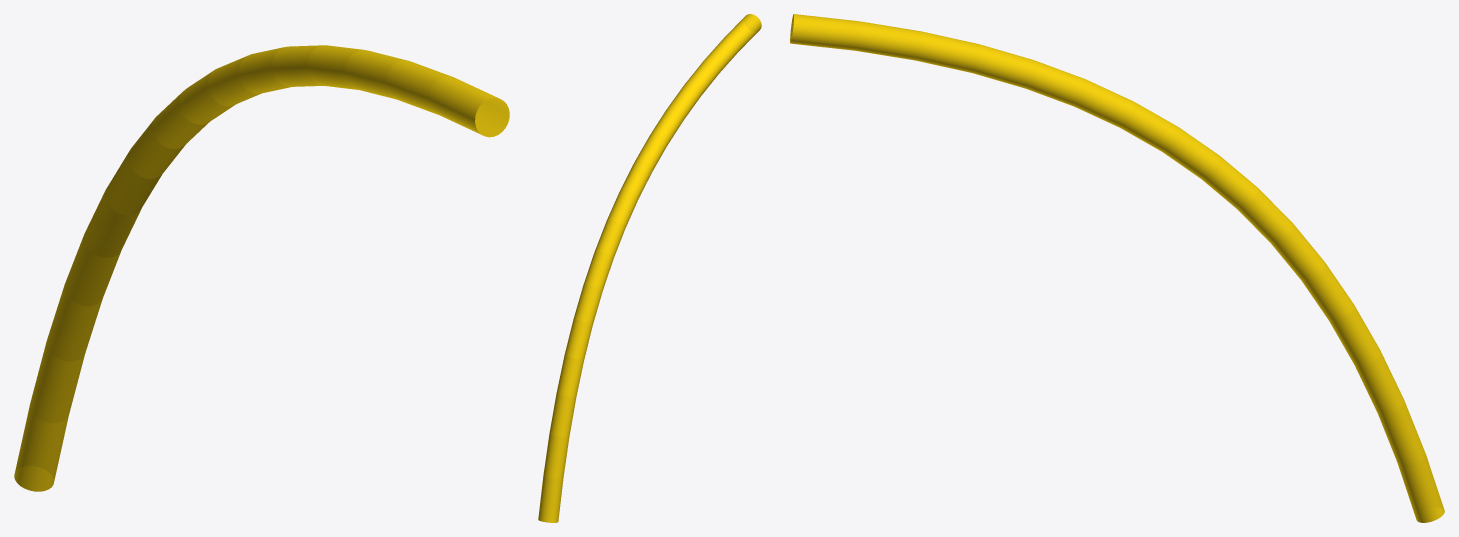
Rendered from Event_421556567_track_15.fbx.
3 views of the same model, side by side, from view 1: azimuth 30°, elevation 25°; view 2: azimuth 150°, elevation 25°; view 3: azimuth 270°, elevation 25° (orthographic). The views are drawn at different scales.
Visible parts, largest first — view 1: Model; view 2: Model; view 3: Model.
Part boxes in pixels (<box>): Model: <box>14,45,509,491</box>; Model: <box>538,14,761,522</box>; Model: <box>790,14,1444,522</box>.
Size of the model in its own units: 0.0678 by 0.7562 by 0.8756.
